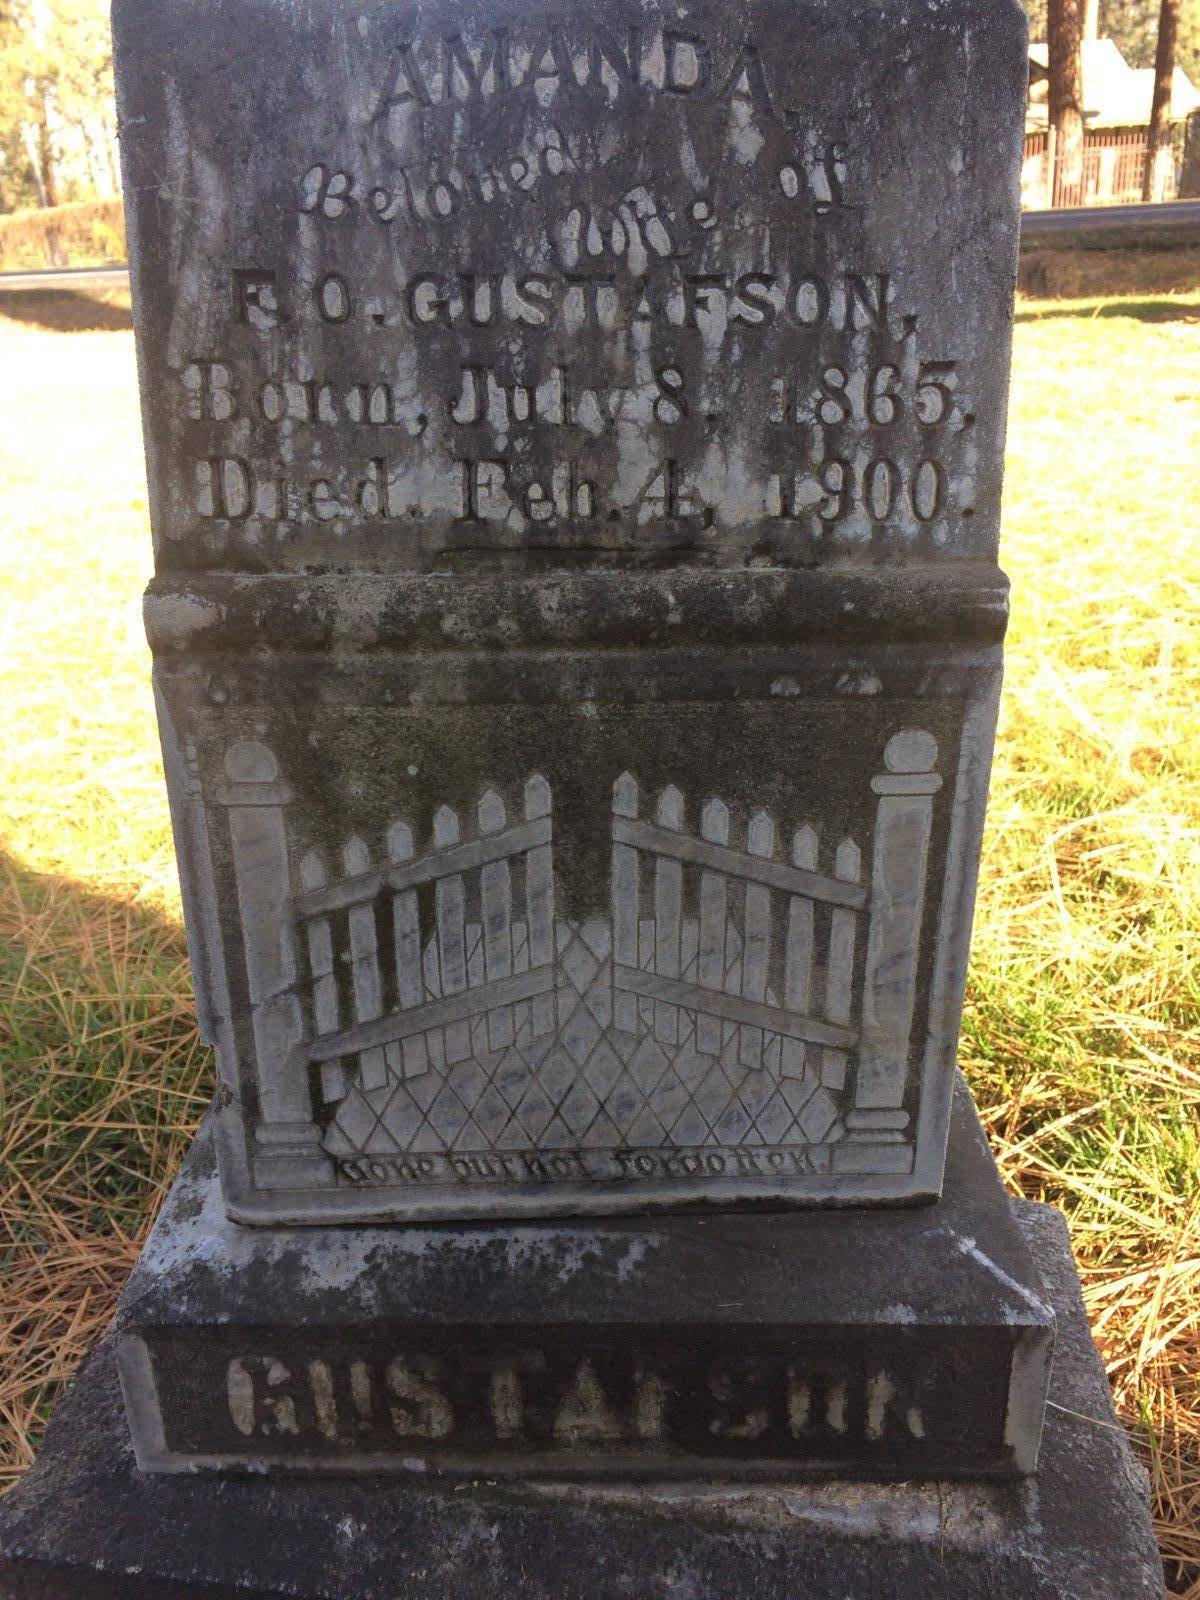upright: (0, 0, 1166, 1600)
